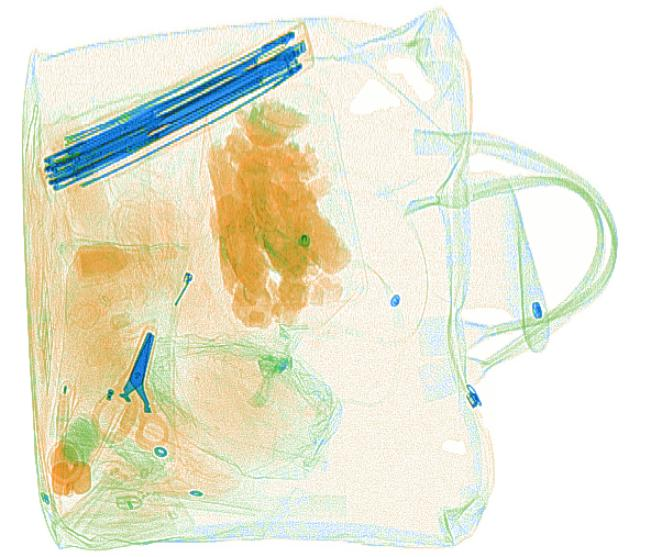scissors: (91, 324, 167, 450)
